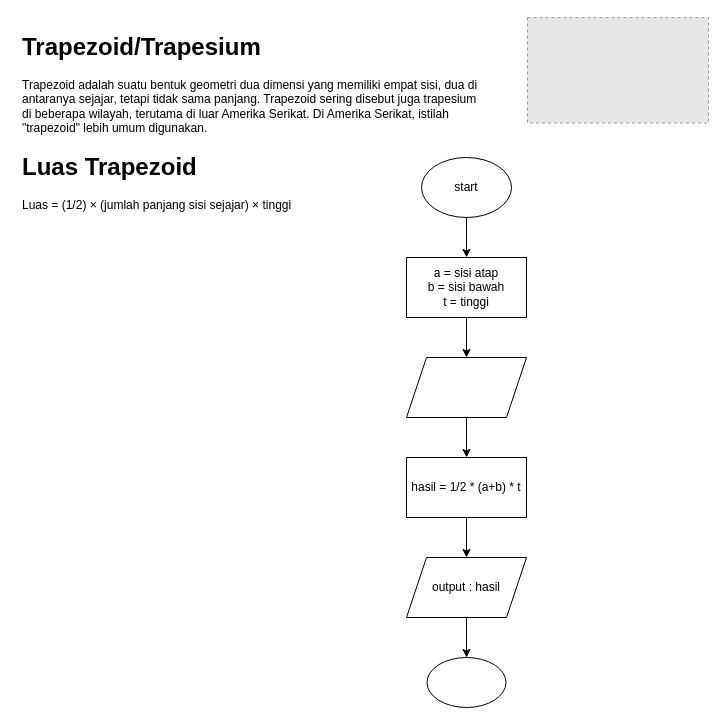
This 726x725 diagram has some shape labels left out. Grey dashed boxes stand in for pictures. The centre of each missing label's shape, as x and y in pixels:
end: (466,682)
input : a, b, t: (466,387)
